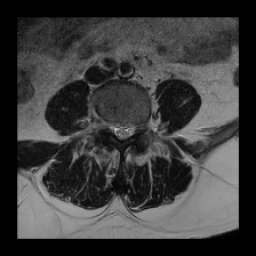CCS_stenosis: (119, 118, 126, 146)
LFS_normal: (133, 116, 141, 136)
LLS_normal: (126, 118, 132, 140)
RFS_normal: (105, 114, 112, 136)
RLS_normal: (112, 118, 119, 143)
